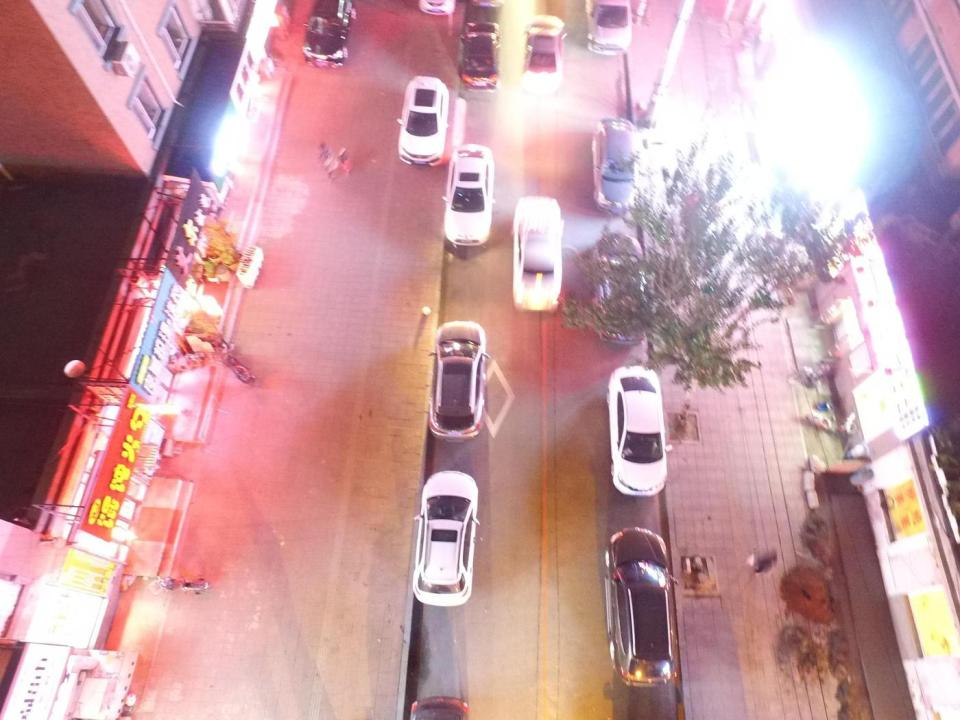car: (603, 526, 675, 690), (412, 469, 479, 608), (605, 364, 668, 499), (427, 319, 487, 444), (512, 196, 564, 314), (596, 232, 647, 348), (443, 142, 495, 248), (397, 74, 450, 167), (591, 116, 638, 219), (520, 13, 565, 98), (302, 0, 356, 70), (459, 16, 502, 92), (584, 1, 632, 56), (407, 695, 471, 720), (415, 0, 456, 16)
